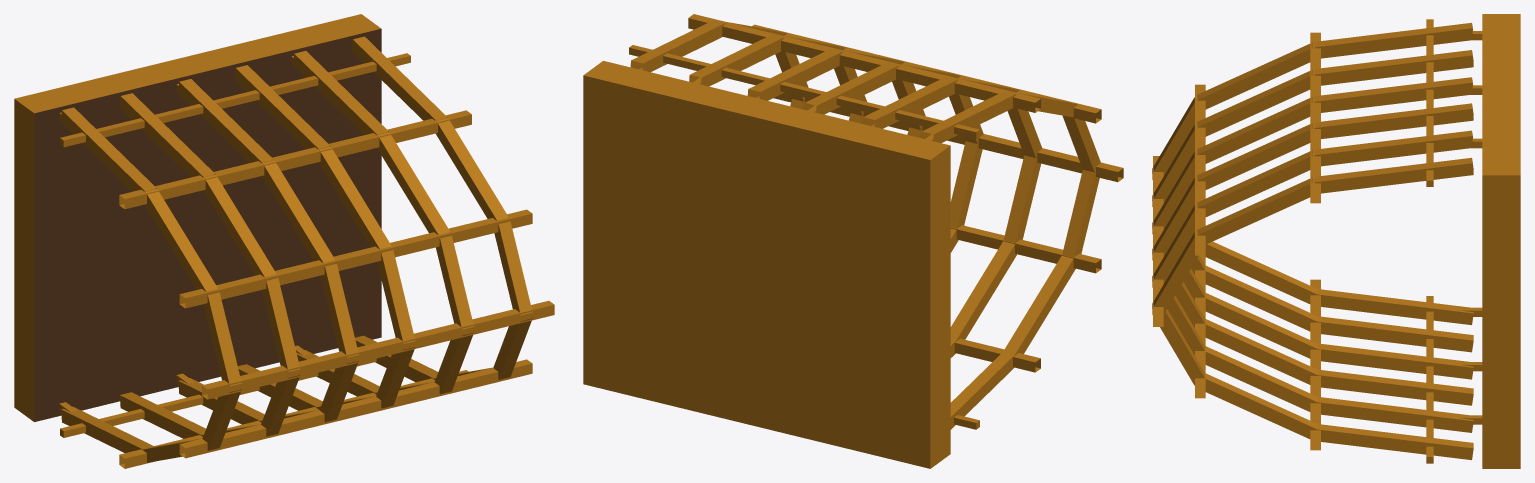
Rendered from middle.glb.
The picture shows the model from 3 angles, left to right: view 1: azimuth 30°, elevation 25°; view 2: azimuth 150°, elevation 25°; view 3: azimuth 270°, elevation 25°; orthographic projection. The views are drawn at different scales.
Parts seen in each view (by area): view 1: bridge_11_middle; view 2: bridge_11_middle; view 3: bridge_11_middle.
Boxes of the visible parts, left/top/right/bottom form: bridge_11_middle: left=14, top=14, right=554, bottom=468; bridge_11_middle: left=583, top=14, right=1123, bottom=468; bridge_11_middle: left=1152, top=14, right=1520, bottom=468.
Size of the model in its own units: 16 by 13.75 by 15.44.
